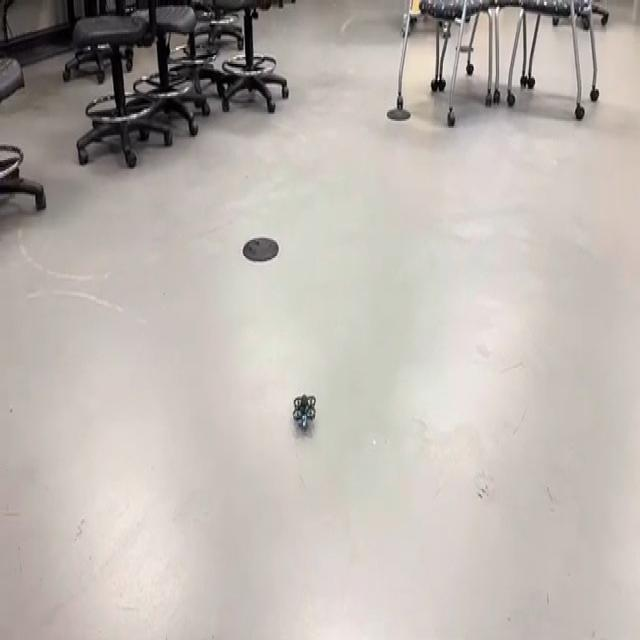drone: (286, 382, 323, 442)
